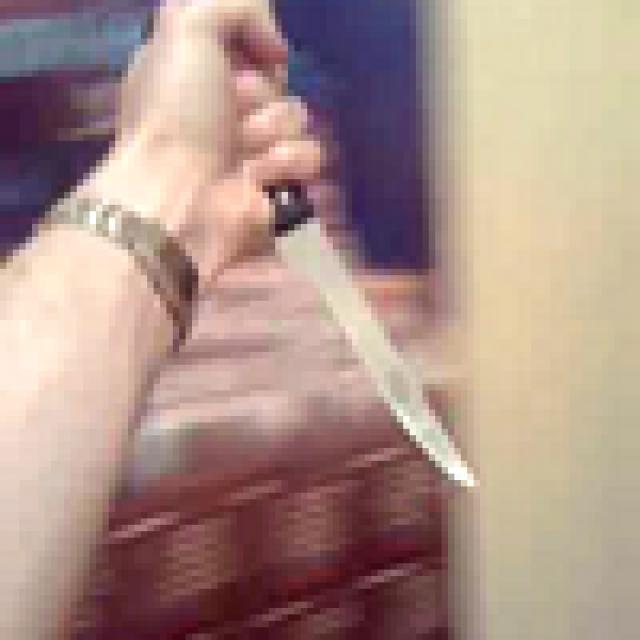Knife: (166, 0, 493, 506)
